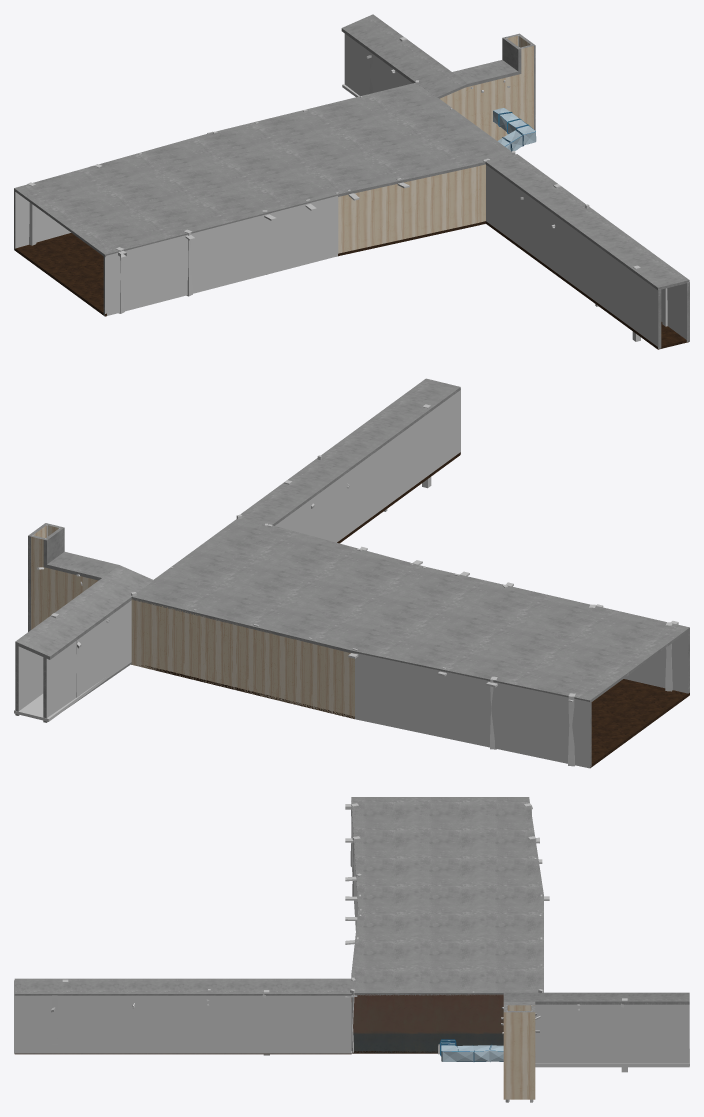
File: Basement (Wakeup Section).obj
3 renders of one model, top to bottom at view 1: azimuth 30°, elevation 25°; view 2: azimuth 150°, elevation 25°; view 3: azimuth 270°, elevation 25°, orthographic. The views are drawn at different scales.
Visible parts, largest first — view 1: basement_wakeup_part_5, basement_wakeup_part_4, basement_wakeup_part_1, basement_wakeup_part_3, basement_wakeup_part_9, basement_wakeup_part_7, basement_wakeup_part_8, basement_wakeup_part_6, basement_wakeup_ventilation; view 2: basement_wakeup_part_5, basement_wakeup_part_4, basement_wakeup_part_1, basement_wakeup_part_3, basement_wakeup_part_9, basement_wakeup_part_8, basement_wakeup_part_7, basement_wakeup_part_6; view 3: basement_wakeup_part_5, basement_wakeup_part_1, basement_wakeup_part_8, basement_wakeup_part_4, basement_wakeup_part_3, basement_wakeup_part_9, basement_wakeup_part_7, basement_wakeup_ventilation, basement_wakeup_part_6.
Boxes of the visible parts, <box> form: basement_wakeup_part_5: <box>14,83,511,316</box>; basement_wakeup_part_4: <box>14,164,485,316</box>; basement_wakeup_part_1: <box>486,165,689,348</box>; basement_wakeup_part_3: <box>485,154,689,349</box>; basement_wakeup_part_9: <box>341,14,521,98</box>; basement_wakeup_part_7: <box>440,33,535,140</box>; basement_wakeup_part_8: <box>344,34,412,96</box>; basement_wakeup_part_6: <box>27,80,515,313</box>; basement_wakeup_ventilation: <box>493,108,536,151</box>; basement_wakeup_part_5: <box>131,518,689,768</box>; basement_wakeup_part_4: <box>131,598,689,768</box>; basement_wakeup_part_1: <box>275,388,460,542</box>; basement_wakeup_part_3: <box>240,378,460,543</box>; basement_wakeup_part_9: <box>14,527,153,721</box>; basement_wakeup_part_8: <box>15,600,131,722</box>; basement_wakeup_part_7: <box>28,523,98,631</box>; basement_wakeup_part_6: <box>131,514,678,766</box>; basement_wakeup_part_5: <box>351,797,543,1053</box>; basement_wakeup_part_1: <box>14,980,351,1053</box>; basement_wakeup_part_8: <box>535,1004,689,1067</box>; basement_wakeup_part_4: <box>351,802,503,1052</box>; basement_wakeup_part_3: <box>14,978,351,1054</box>; basement_wakeup_part_9: <box>503,992,689,1066</box>; basement_wakeup_part_7: <box>503,1005,535,1099</box>; basement_wakeup_ventilation: <box>439,1039,503,1061</box>; basement_wakeup_part_6: <box>345,803,549,1054</box>.
Size of the model in its own units: 98.96 by 18.72 by 116.
